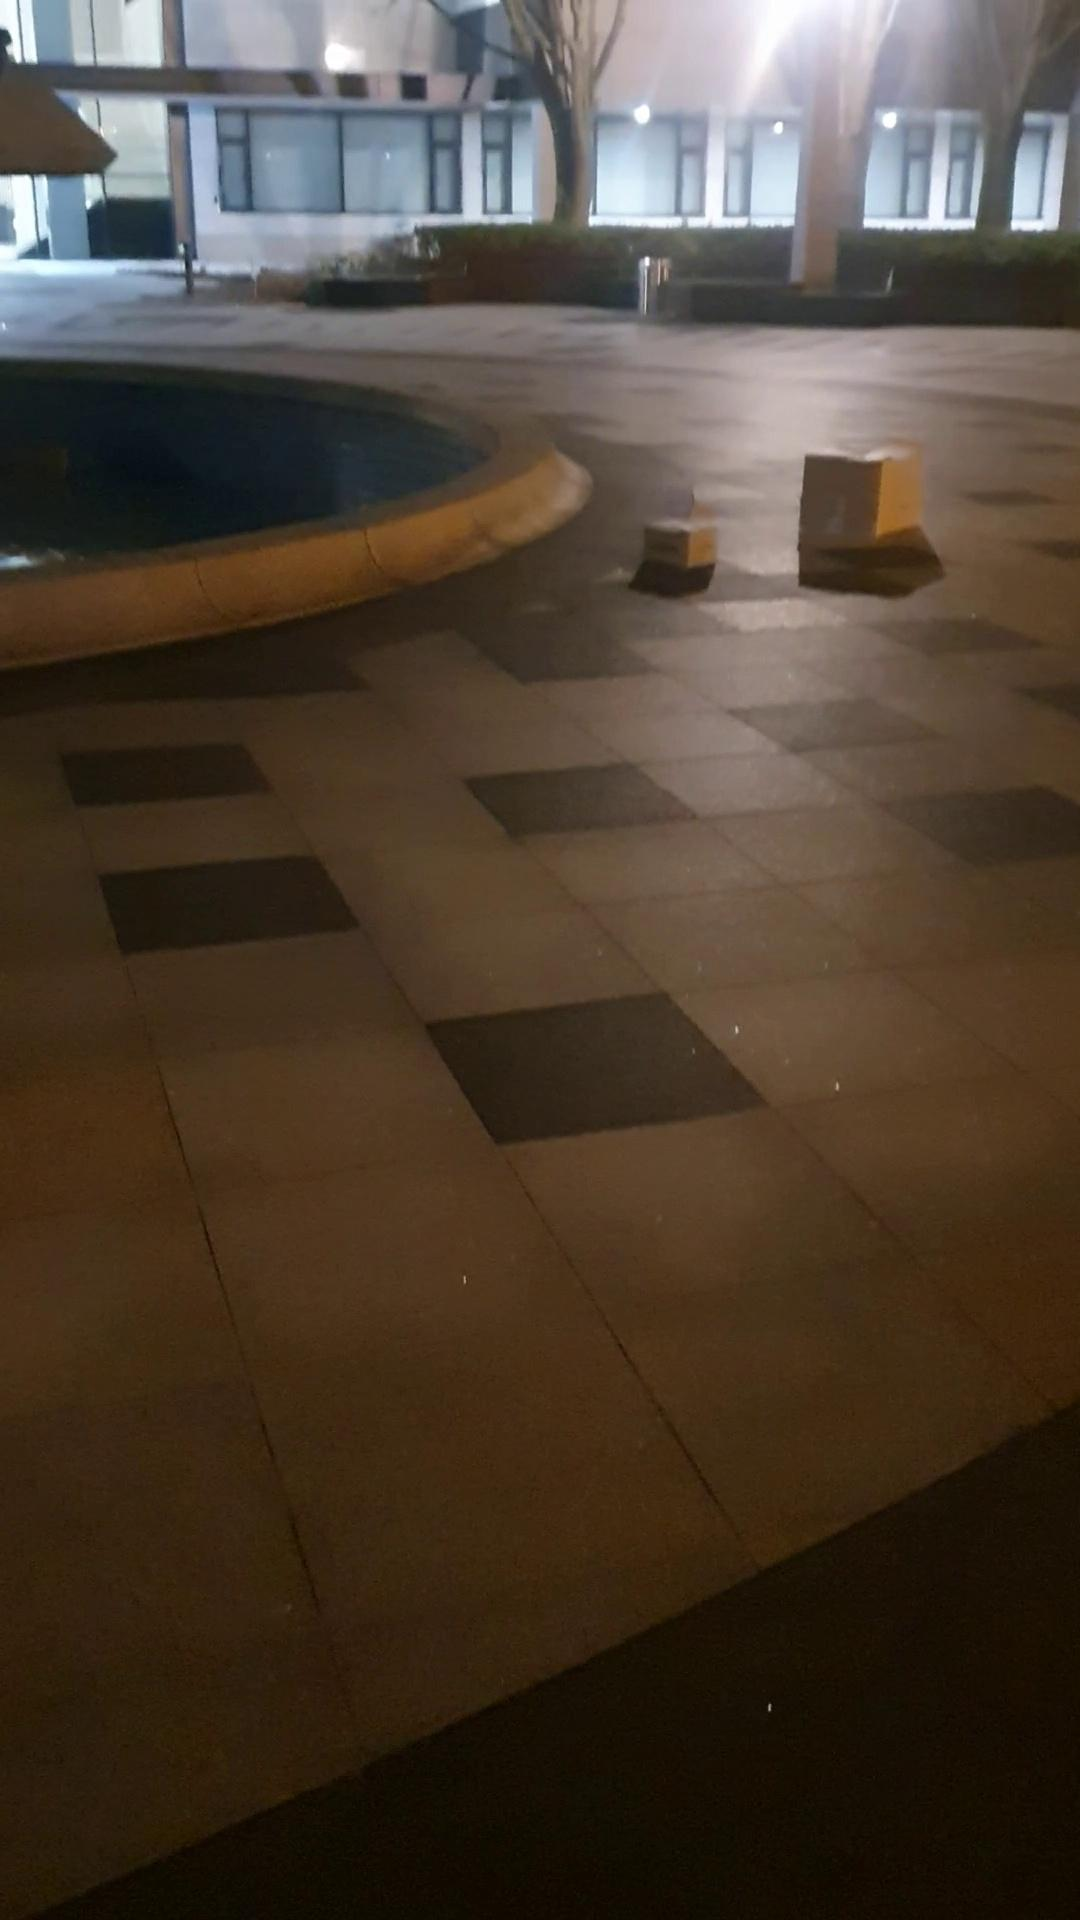Box: (789, 430, 919, 567), (633, 498, 709, 575)
